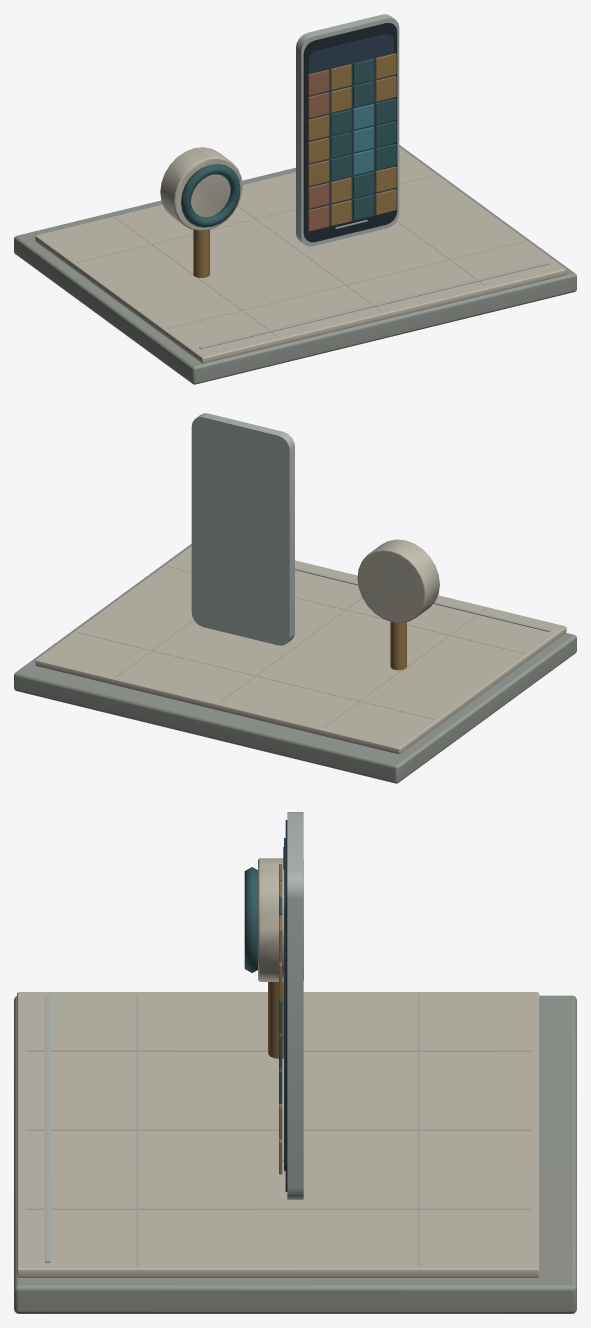
Rendered from idea-6a9c8955.glb.
3 views of the same model, one above another, from view 1: azimuth 30°, elevation 25°; view 2: azimuth 150°, elevation 25°; view 3: azimuth 270°, elevation 25° (orthographic). The views are drawn at different scales.
Visible parts, largest first — view 1: Smartphone Thermal Investigation; view 2: Smartphone Thermal Investigation; view 3: Smartphone Thermal Investigation.
Part boxes in pixels (box(x1,y1,x2,y2)): Smartphone Thermal Investigation: box(14, 14, 576, 384); Smartphone Thermal Investigation: box(14, 413, 576, 783); Smartphone Thermal Investigation: box(14, 812, 576, 1313).
Size of the model in its own units: 4.8 by 2.8 by 3.9.
